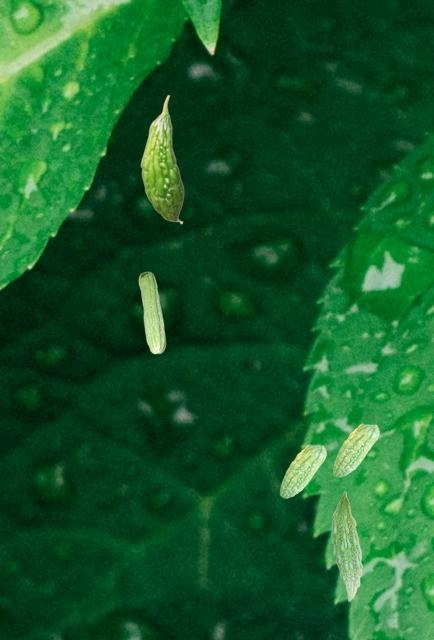ampalaya: (140, 94, 184, 224), (331, 491, 363, 602), (279, 444, 327, 499), (332, 423, 380, 478), (138, 271, 166, 354)
